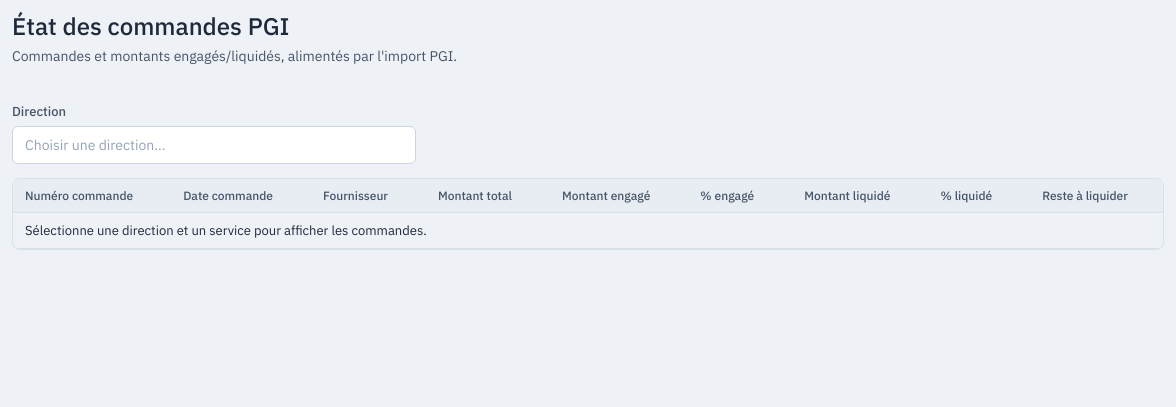
CommandesPGI › ne plante pas quand une commande a un Marché encore null (donnée antérieure au correctif HM)
Click the button with aria-label "Filtrer par direction".
click(95, 145)  # box [12, 126, 416, 164]
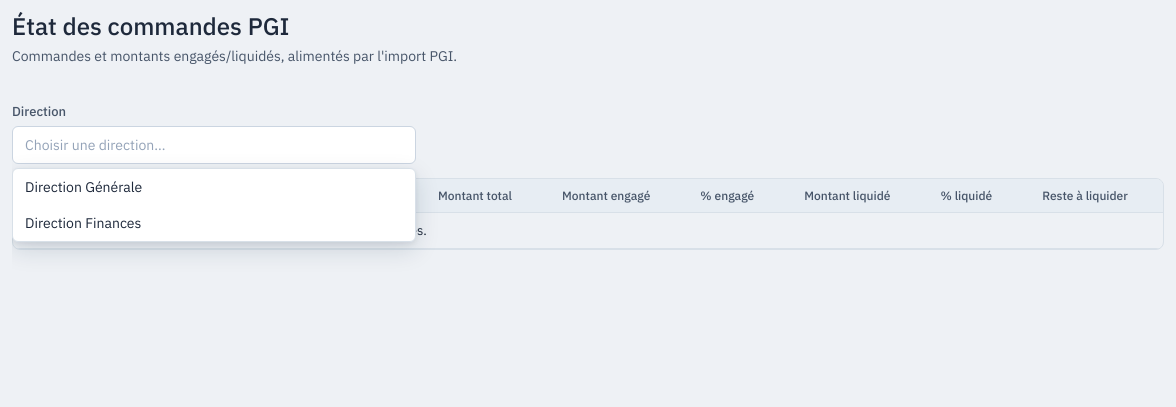
Click the text "Direction Générale".
click(84, 187)  # box [25, 178, 142, 196]
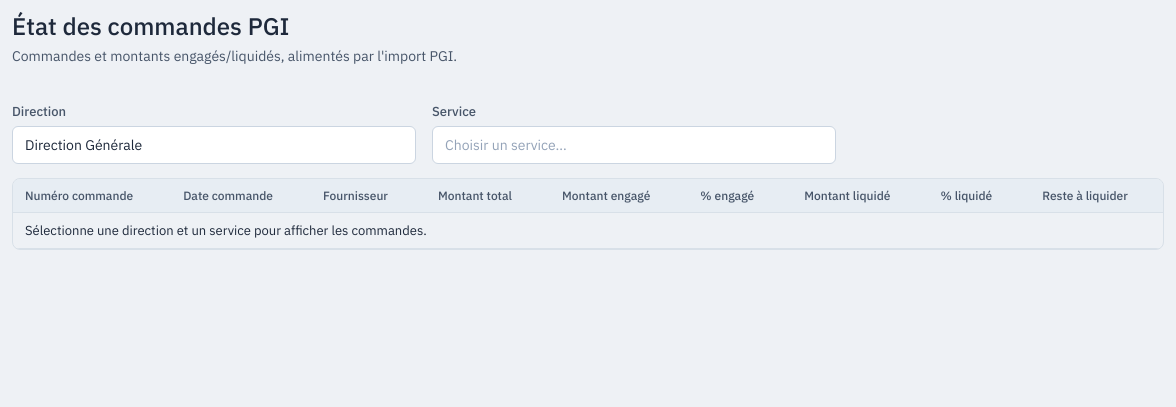
Click the button with aria-label "Filtrer par service".
click(506, 145)  # box [432, 126, 836, 164]
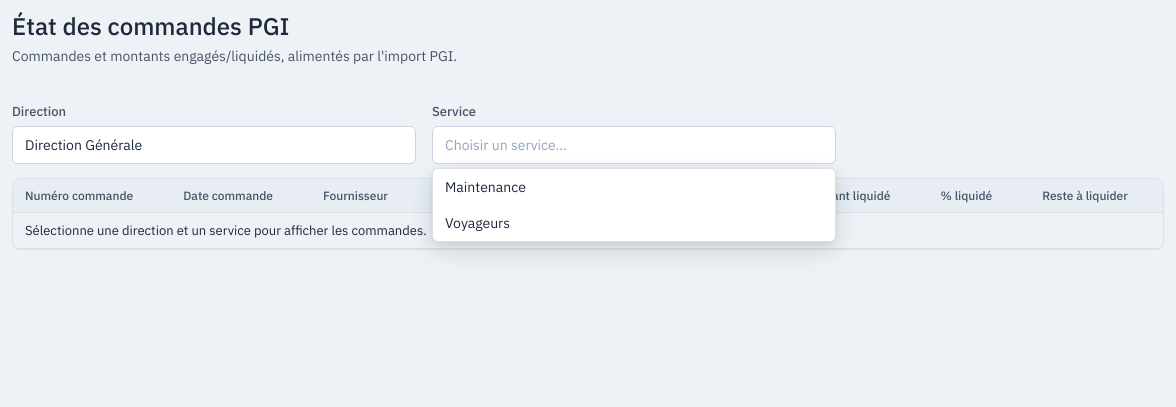
Click the text "Maintenance".
click(485, 187)  # box [445, 178, 526, 196]
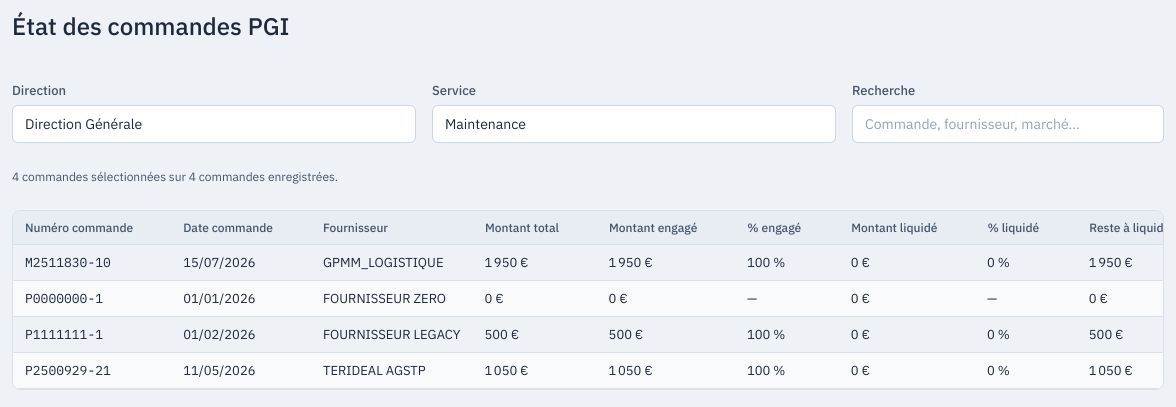
Type "LEGACY" into the field labelled "Recherche".
click(1008, 124); type("LEGACY")  # box [852, 105, 1164, 143]
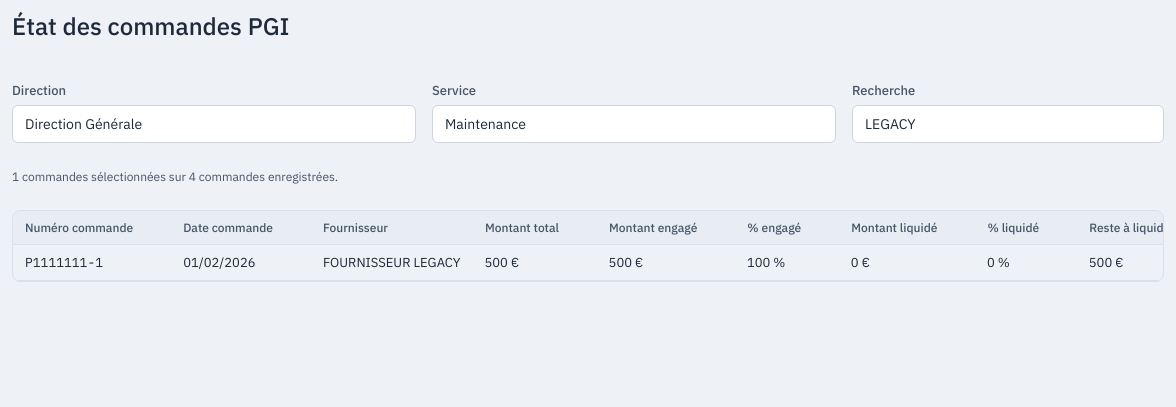
Expected: the text "P1111111-1" is shown, [13, 245, 171, 281]
Expected: the text "P2500929-21" is gone
